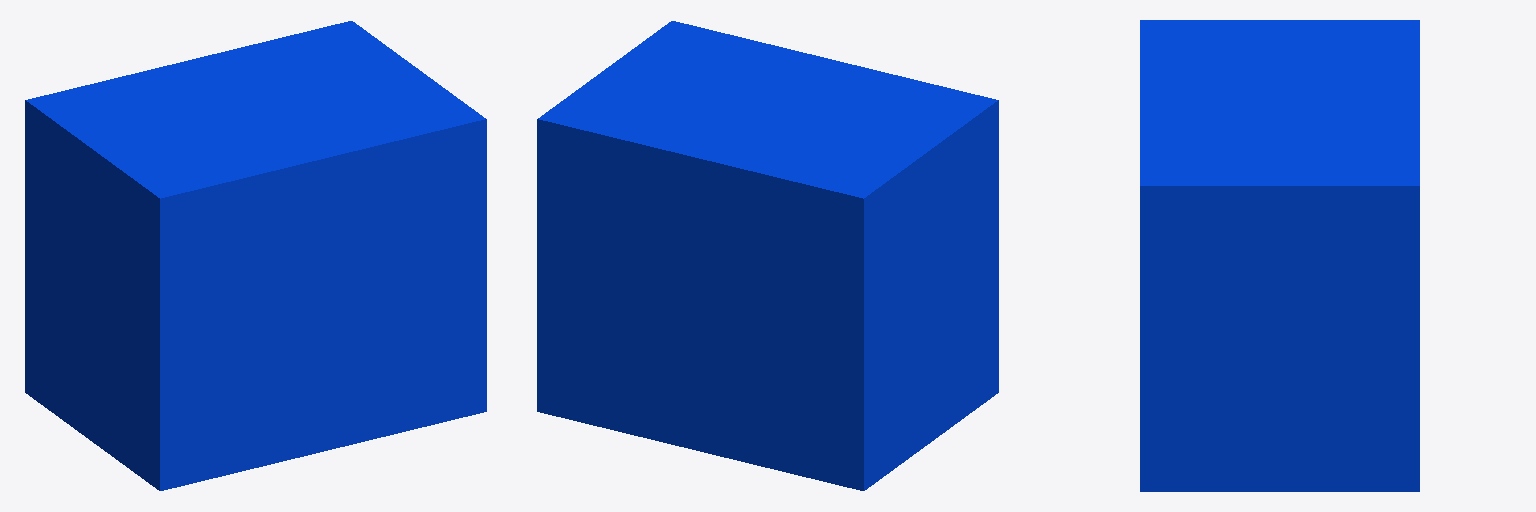
The robot description file, URDF, robot "room315_payload_box":
<?xml version="1.0"?>
<robot name="room315_payload_box">
  <link name="base_link">
    <inertial>
      <origin xyz="0 0 0" rpy="0 0 0"/>
      <mass value="0.2"/>
      <inertia ixx="0.0002" ixy="0" ixz="0" iyy="0.0002" iyz="0" izz="0.0002"/>
    </inertial>
    <visual>
      <origin xyz="0 0 0" rpy="0 0 0"/>
      <geometry>
        <box size="0.07 0.05 0.06"/>
      </geometry>
      <material name="payload_blue">
        <color rgba="0.05 0.35 0.95 1"/>
      </material>
    </visual>
    <collision>
      <origin xyz="0 0 0" rpy="0 0 0"/>
      <geometry>
        <box size="0.07 0.05 0.06"/>
      </geometry>
    </collision>
  </link>
</robot>

--- Facts derived from the render (not from the file) ---
The picture shows the robot from 3 angles, left to right: view 1: azimuth 30°, elevation 25°; view 2: azimuth 150°, elevation 25°; view 3: azimuth 270°, elevation 25°; orthographic projection.
Robot: room315_payload_box — 1 links, 0 joints (none); root link base_link; default pose: all joints at 0.
Visible links, largest first — view 1: base_link; view 2: base_link; view 3: base_link.
Boxes of the visible links, x1=… form: base_link: x1=25, y1=21, x2=486, y2=490; base_link: x1=537, y1=21, x2=998, y2=490; base_link: x1=1140, y1=20, x2=1419, y2=491.
Bounding box of the posed robot: 0.07 × 0.05 × 0.06 m (x, y, z).
Geometry: primitives only (box / cylinder / sphere), no mesh files.
